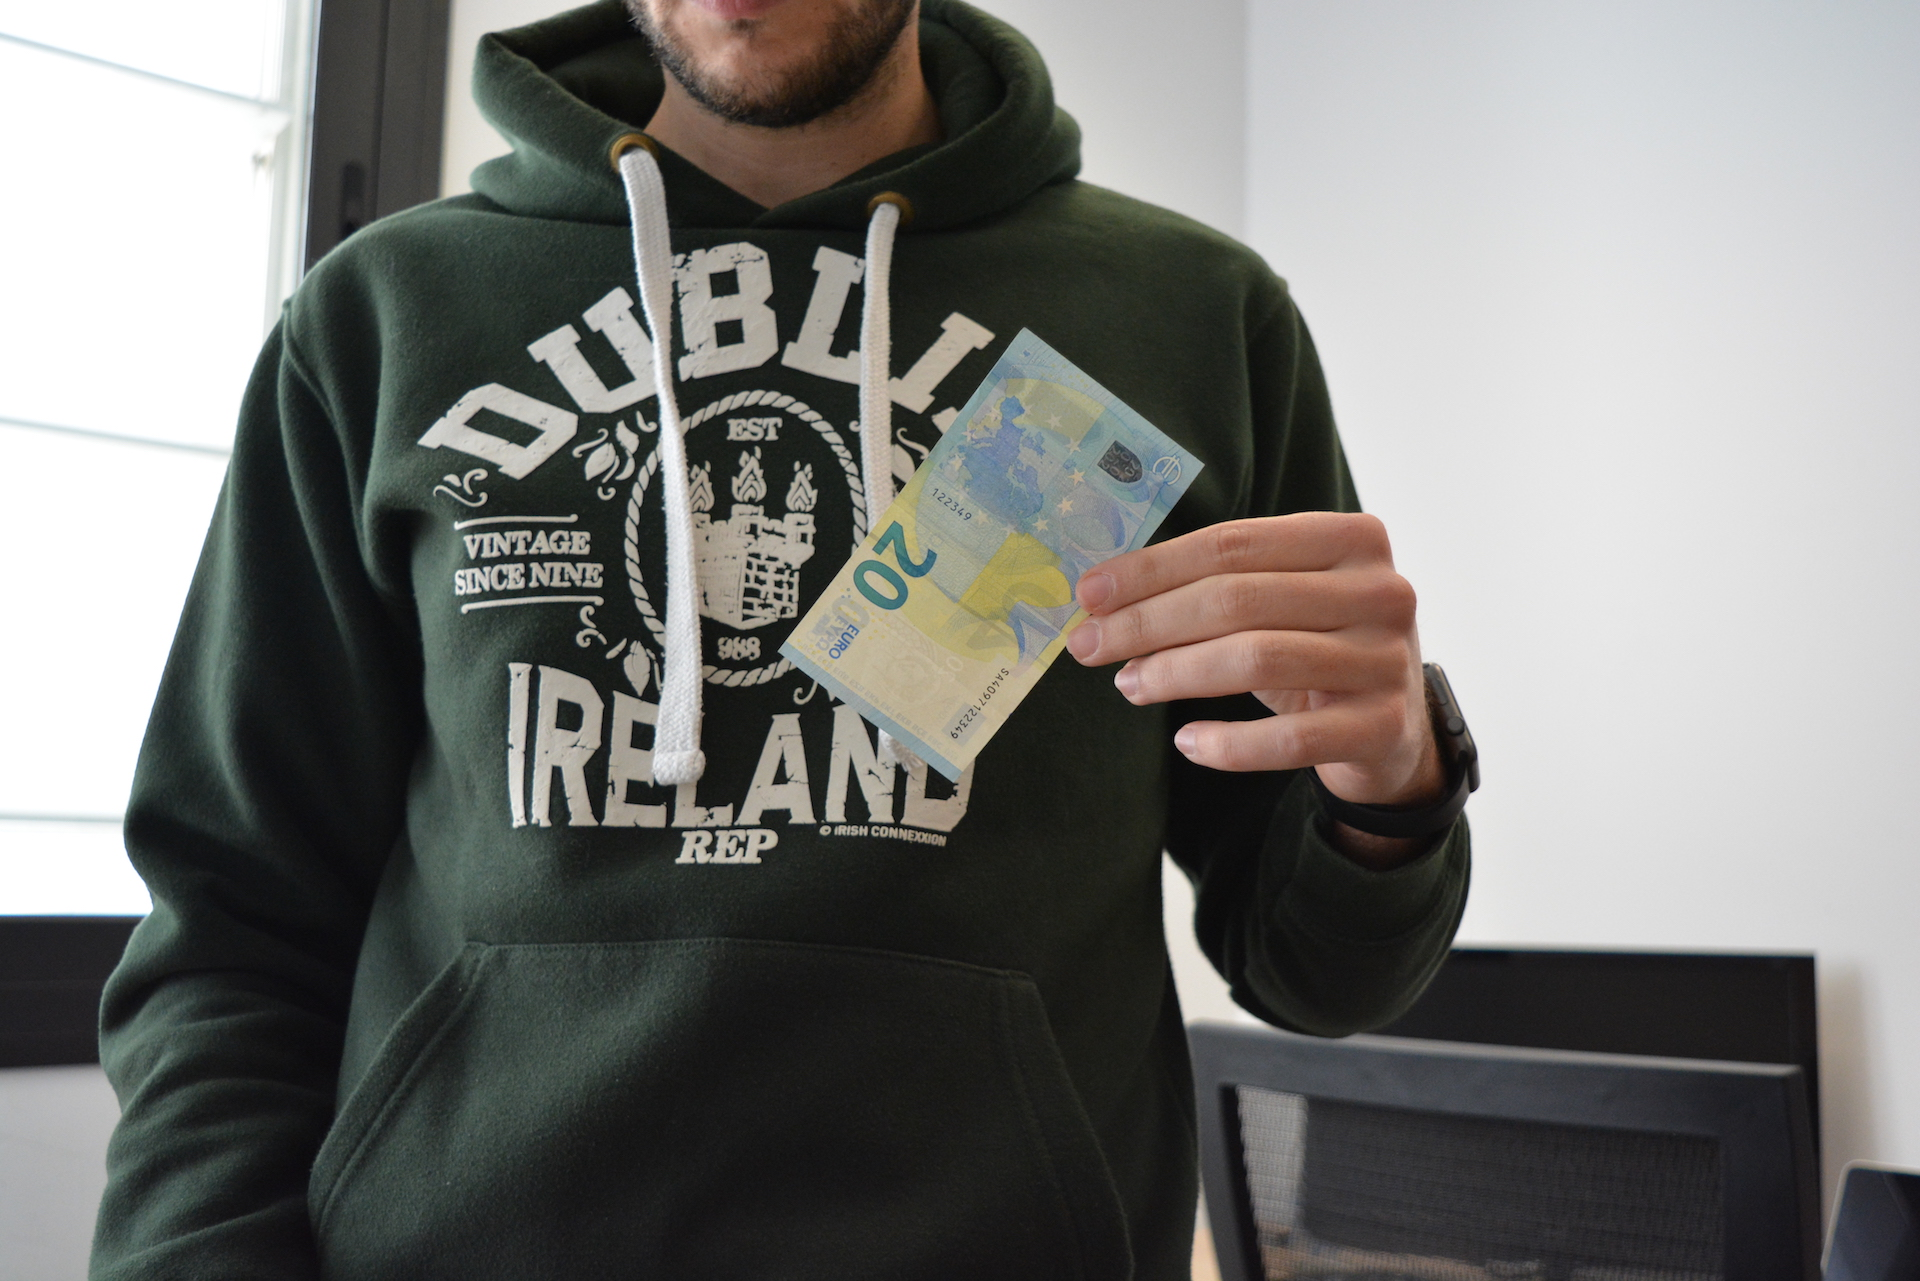billete: (778, 325, 1209, 783)
